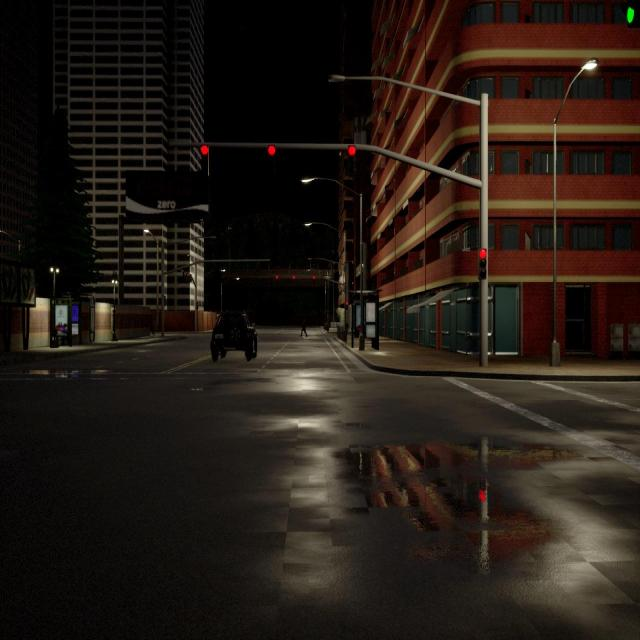Pedestrian: (300, 318, 308, 337)
Vehicle: (211, 311, 257, 361)
traffic_light: (626, 0, 640, 26), (200, 145, 209, 176), (478, 248, 486, 280), (268, 144, 276, 172), (348, 145, 355, 174), (345, 302, 348, 310), (292, 275, 295, 279), (276, 275, 278, 279), (313, 275, 315, 279)
